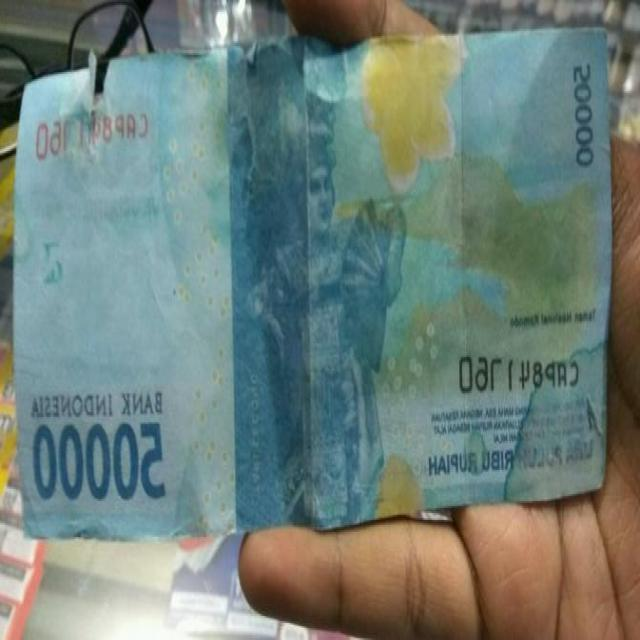lima puluh ribu rupiah: (14, 51, 602, 508), (282, 102, 367, 500), (34, 415, 166, 521)
